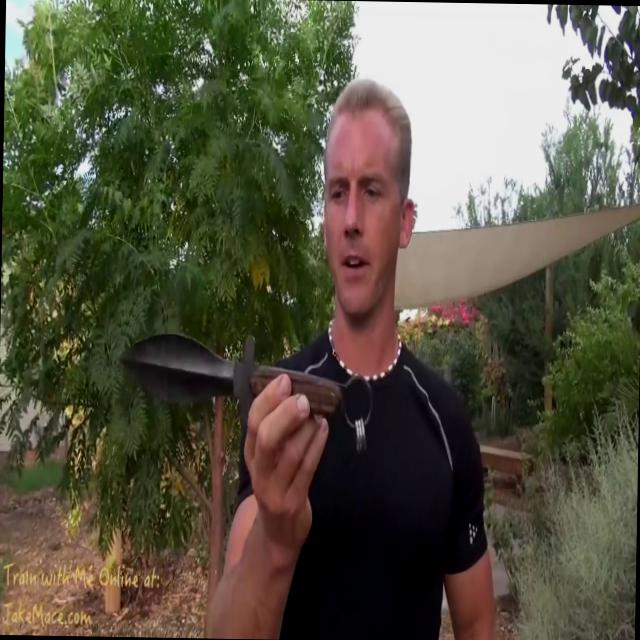knife: (104, 324, 387, 452)
